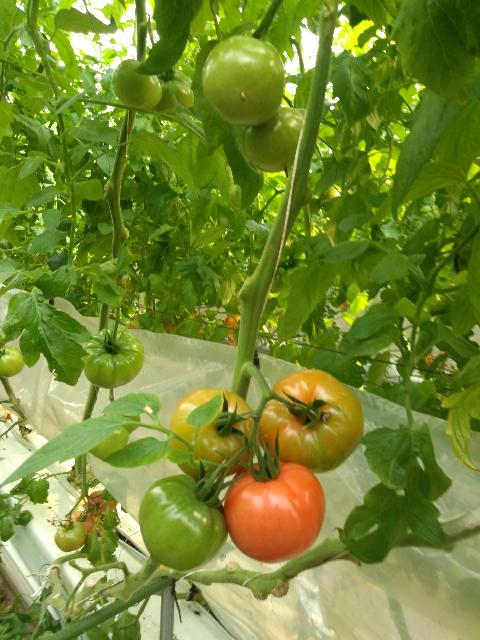b_fully_ripened: (223, 460, 326, 564)
b_green: (138, 474, 228, 571), (201, 35, 286, 125), (243, 106, 304, 173), (81, 327, 144, 389), (113, 59, 162, 111), (150, 69, 193, 120), (54, 521, 87, 552), (0, 346, 24, 378)
b_half_ripened: (255, 368, 364, 473), (166, 389, 259, 481), (63, 511, 95, 536)
